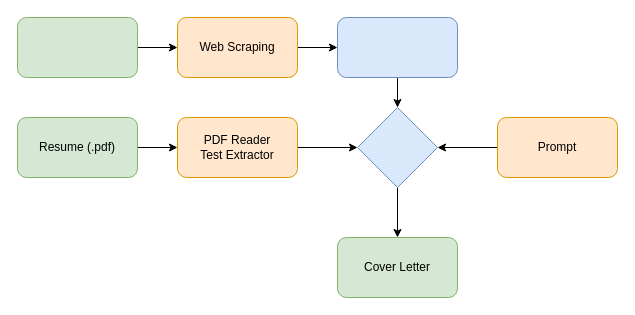
This 635x315 diagram has some shape labels left out. Here are the shapes that lost their labels. From the top down, the centre of each, then its label:
the point at 77,47: Job Posting URL
the point at 397,47: LLM (Extract skills, experience, projects)
the point at 397,147: LLM
